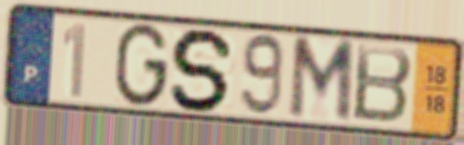1: (61, 20, 89, 100)
9: (236, 32, 287, 120)
B: (349, 42, 415, 127)
G: (111, 21, 172, 110)
M: (285, 34, 358, 127)
S: (168, 26, 239, 114)
